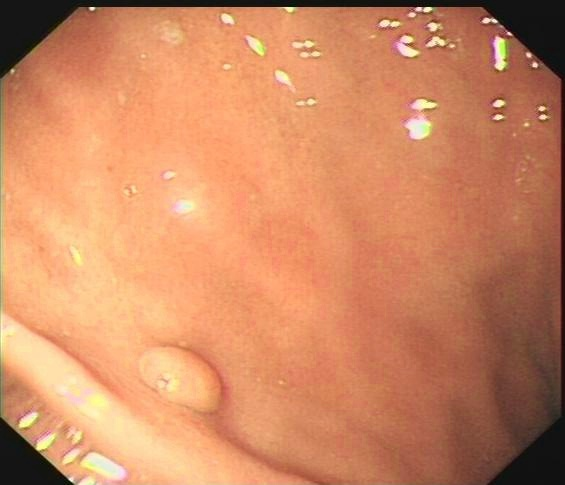Polyp: (134, 344, 224, 415)
